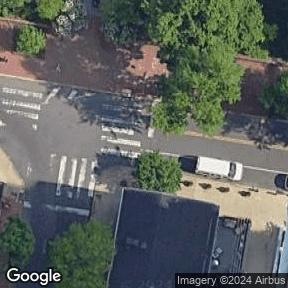vegetation: (49, 220, 113, 288), (132, 147, 186, 194), (0, 215, 38, 274), (15, 25, 48, 56)
